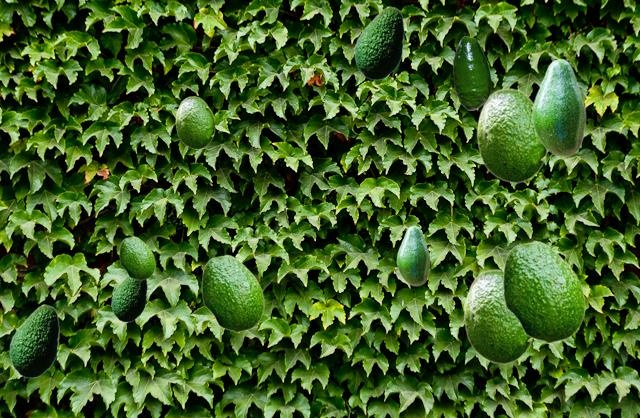avocado: (502, 240, 584, 342), (476, 88, 547, 182), (463, 269, 533, 363), (531, 58, 585, 156), (201, 254, 263, 331), (354, 6, 403, 79), (9, 304, 58, 377), (453, 36, 490, 109), (175, 96, 214, 148), (396, 225, 429, 285), (111, 275, 146, 321), (119, 236, 154, 279)
